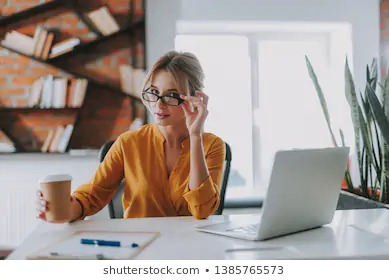C_blouse: (68, 123, 232, 229)
